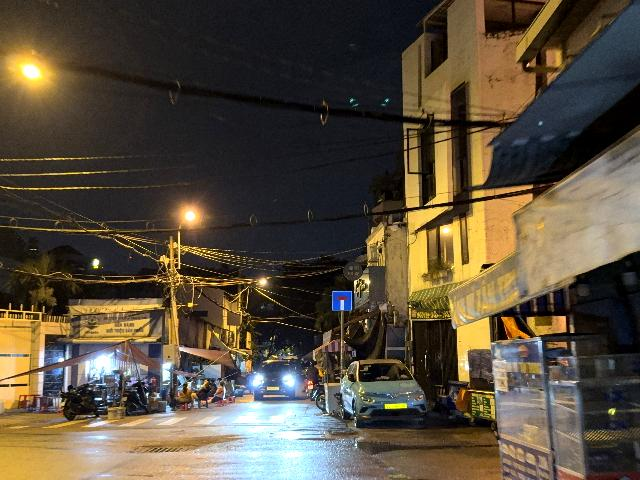duong-cut: (332, 291, 352, 310)
